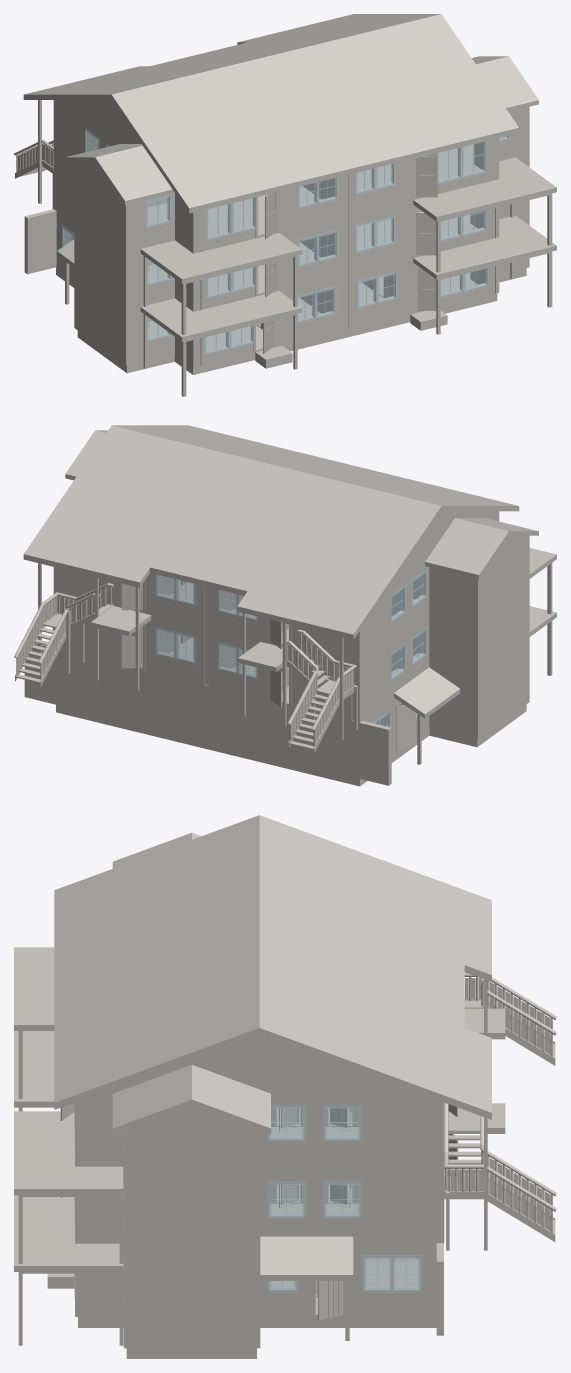
3 views of the same model, one above another, from view 1: azimuth 30°, elevation 25°; view 2: azimuth 150°, elevation 25°; view 3: azimuth 270°, elevation 25° (orthographic). The views are drawn at different scales.
Visible parts, largest first — view 1: 2u9gYONfr8zPTBmskJetY8, 2bHsXOtrP50Bfel_b6rZaG, 0NrYinMXn7h9nEZvYPh1ba, 3hjhkoF195BhMKg4qh0KVI, 3lz2jlvGT7WAYbUOuWaG8D, 0EzPHAlEn9OR4tQ6XfuTTl, 1AzT9qobHFuvSuz$CWjGxC, 1TzGogCCX8ggtaTHTy5cDF, 1xELskQF15pAF2KSDrvaGO, 3TW_IUdYj4ABMkmQu0uLsA, 3XTrQ9G412Uem805lbq8eg, 3hlqGeZbL4rx2uIE4uyWtY (+55 smaller); view 2: 0EzPHAlEn9OR4tQ6XfuTTl, 3XTrQ9G412Uem805lbq8eg, 0oMH6i3MX4lPzFQxGnO3xw, 1Rt5OjTjL2$AfuetFZcWc8, 1QMYrSdHfB$Pm5jQBpaBR8, 2rKKqX1QnFkOTeJeD0igI_, 1QmUIxD31BOhMeCiPN8mDa, 2u9gYONfr8zPTBmskJetY8, 00d4iiUt17Muy4K35k$QmI, 2bHsXOtrP50Bfel_b6rZaG, 2Sq8ZoHUv2VQ$av7o1WZkp, 3X7mN8pcL1YgwhYG_kRt$y (+37 smaller); view 3: 3XTrQ9G412Uem805lbq8eg, 0EzPHAlEn9OR4tQ6XfuTTl, 2bHsXOtrP50Bfel_b6rZaG, 2u9gYONfr8zPTBmskJetY8, 0U8GVzFCX83uyzrnLCu5Bp, 2diovLQw51VA2MKgpPMPC5, 20b$dknOTDF9uZcNQuUFnj, 323bnnP0v2sQf$beTg3xjB, 2kLNkKfan7OhZEqWpe$_tm, 1TzGogCCX8ggtaTHTy5cDF, 1iOXBSm958gfuCo_YSxacu, 1QmUIxD31BOhMeCiPN8mDa (+28 smaller).
Part boxes in pixels (x1,y1,x2,y2): 2u9gYONfr8zPTBmskJetY8: [111, 54, 354, 213]; 2bHsXOtrP50Bfel_b6rZaG: [277, 14, 519, 173]; 0NrYinMXn7h9nEZvYPh1ba: [140, 233, 302, 283]; 3hjhkoF195BhMKg4qh0KVI: [348, 180, 491, 273]; 3lz2jlvGT7WAYbUOuWaG8D: [140, 291, 302, 341]; 0EzPHAlEn9OR4tQ6XfuTTl: [23, 54, 275, 99]; 1AzT9qobHFuvSuz$CWjGxC: [348, 238, 491, 329]; 1TzGogCCX8ggtaTHTy5cDF: [413, 157, 556, 221]; 1xELskQF15pAF2KSDrvaGO: [413, 215, 556, 279]; 3TW_IUdYj4ABMkmQu0uLsA: [200, 216, 344, 309]; 3XTrQ9G412Uem805lbq8eg: [199, 14, 440, 54]; 3hlqGeZbL4rx2uIE4uyWtY: [200, 274, 344, 365]; 0EzPHAlEn9OR4tQ6XfuTTl: [199, 465, 441, 639]; 3XTrQ9G412Uem805lbq8eg: [23, 425, 275, 587]; 0oMH6i3MX4lPzFQxGnO3xw: [206, 685, 391, 785]; 1Rt5OjTjL2$AfuetFZcWc8: [24, 643, 206, 741]; 1QMYrSdHfB$Pm5jQBpaBR8: [286, 629, 356, 753]; 2rKKqX1QnFkOTeJeD0igI_: [61, 592, 204, 684]; 1QmUIxD31BOhMeCiPN8mDa: [14, 583, 113, 687]; 2u9gYONfr8zPTBmskJetY8: [277, 465, 519, 511]; 00d4iiUt17Muy4K35k$QmI: [359, 614, 429, 722]; 2bHsXOtrP50Bfel_b6rZaG: [112, 425, 352, 465]; 2Sq8ZoHUv2VQ$av7o1WZkp: [208, 628, 352, 720]; 3X7mN8pcL1YgwhYG_kRt$y: [362, 557, 429, 662]; 3XTrQ9G412Uem805lbq8eg: [259, 921, 491, 1119]; 0EzPHAlEn9OR4tQ6XfuTTl: [259, 815, 491, 996]; 2bHsXOtrP50Bfel_b6rZaG: [54, 921, 259, 1109]; 2u9gYONfr8zPTBmskJetY8: [54, 815, 259, 996]; 0U8GVzFCX83uyzrnLCu5Bp: [260, 1166, 444, 1242]; 2diovLQw51VA2MKgpPMPC5: [260, 1090, 436, 1165]; 20b$dknOTDF9uZcNQuUFnj: [123, 1197, 260, 1274]; 323bnnP0v2sQf$beTg3xjB: [123, 1274, 260, 1348]; 2kLNkKfan7OhZEqWpe$_tm: [123, 1122, 260, 1197]; 1TzGogCCX8ggtaTHTy5cDF: [14, 1111, 123, 1195]; 1iOXBSm958gfuCo_YSxacu: [260, 1243, 436, 1316]; 1QmUIxD31BOhMeCiPN8mDa: [444, 1102, 556, 1241].
Size of the model in its own units: 20.74 by 11.18 by 17.83.
